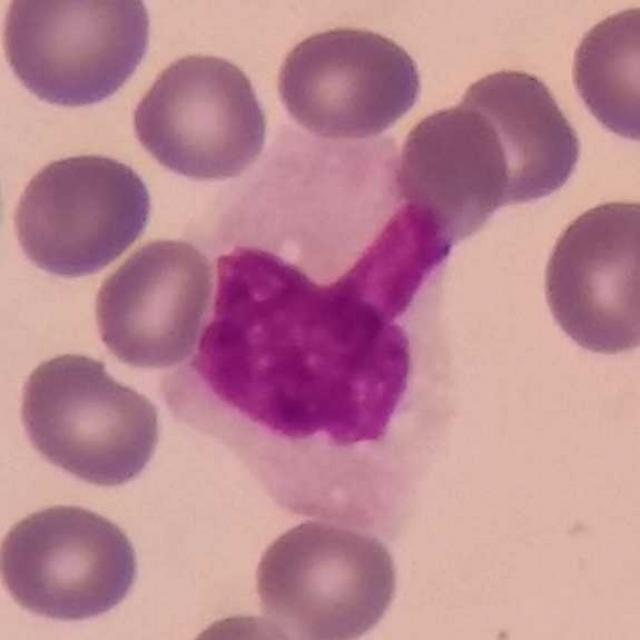Monocyte: (160, 133, 462, 526)
RBC: (435, 60, 587, 212), (12, 346, 167, 492), (127, 47, 274, 185), (5, 146, 156, 280), (249, 514, 404, 640), (270, 19, 426, 144), (0, 498, 146, 628), (88, 232, 219, 372), (0, 0, 158, 114), (535, 192, 640, 360), (390, 100, 514, 223), (565, 0, 640, 148), (168, 607, 321, 640)
